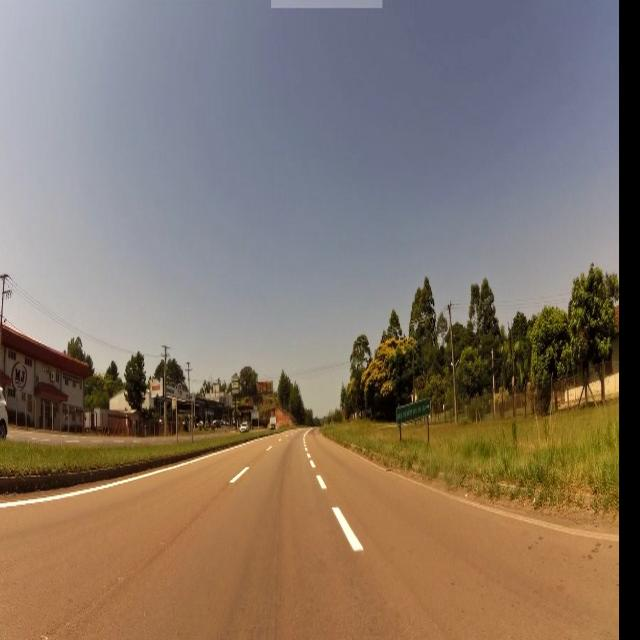I-4: (394, 400, 430, 416)
